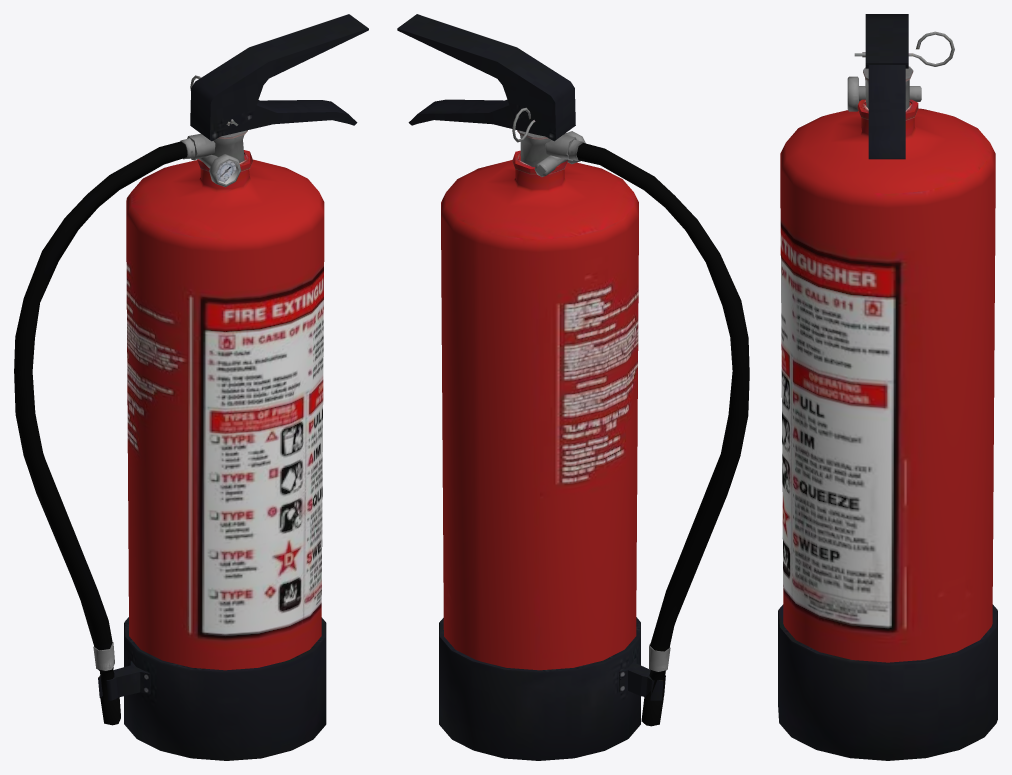
Rendered from extinguisher.glb.
3 renders of one model, left to right at view 1: azimuth 30°, elevation 25°; view 2: azimuth 150°, elevation 25°; view 3: azimuth 270°, elevation 25°, orthographic. The views are drawn at different scales.
Visible parts, largest first — view 1: Cylinder002; view 2: Cylinder002; view 3: Cylinder002.
Part boxes in pixels (left/top/right/bottom): Cylinder002: left=14, top=14, right=368, bottom=760; Cylinder002: left=397, top=14, right=749, bottom=760; Cylinder002: left=778, top=14, right=997, bottom=760.
Bounding box in the file's own units: 1.08 × 2 × 0.551.
Materials: 1 (1 with a texture image).
